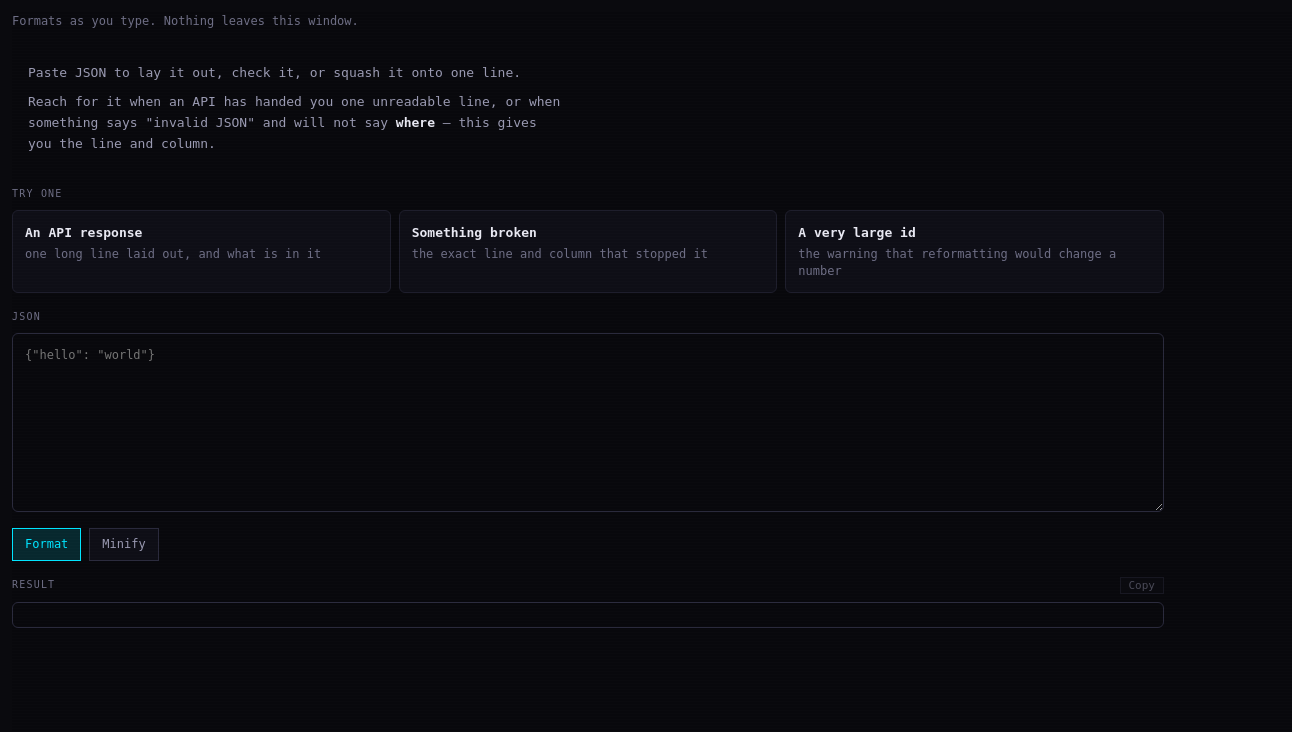
it: JsonTool › formats what is typed
The width and height of the screenshot is (1292, 732).
Click the text box labelled "JSON".
click(588, 423)  # box [12,333,1164,512]
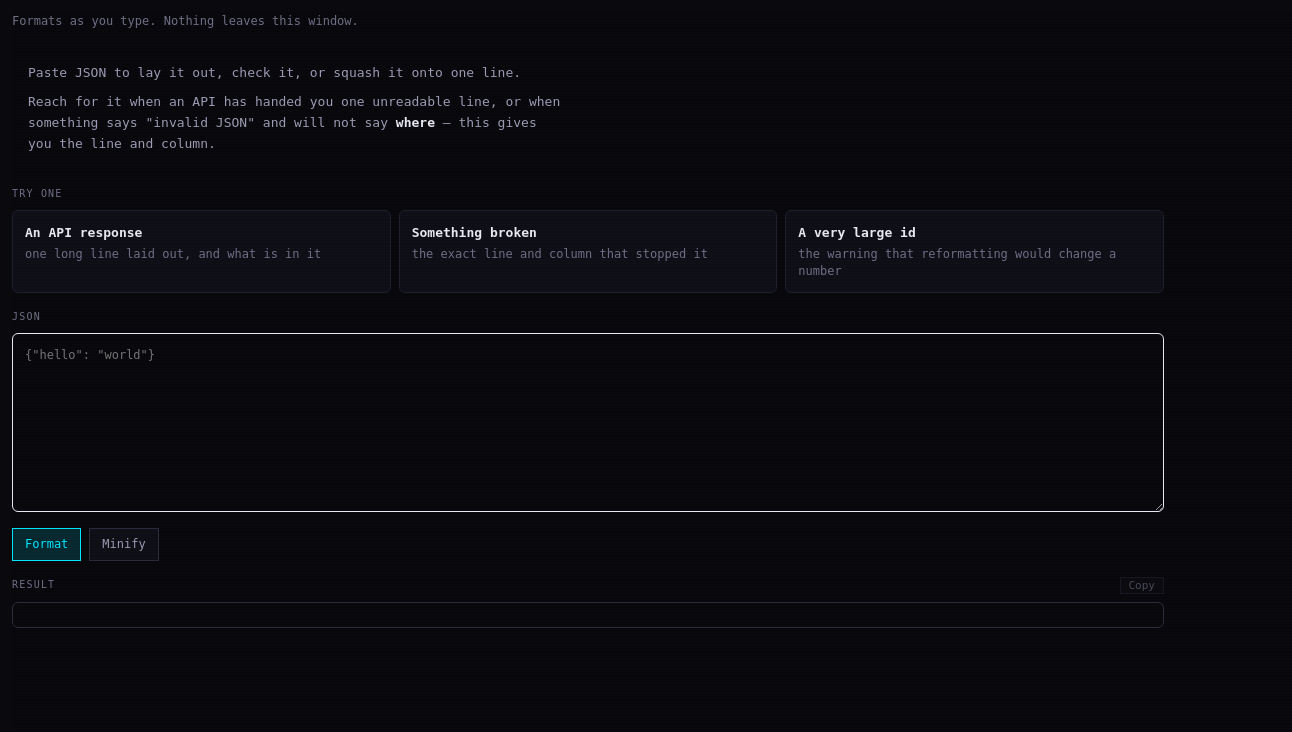
Type keys "{\"a\":1}"
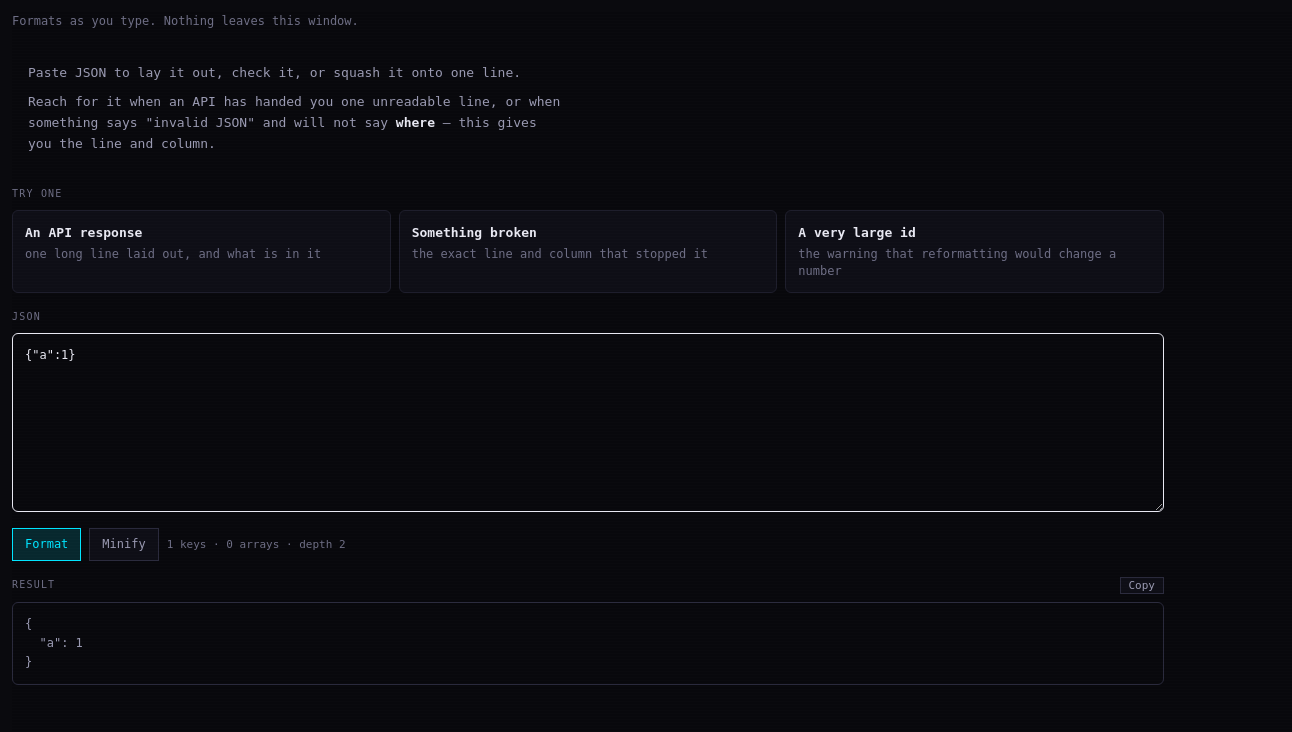
Expected: the text "{ \"a\": 1 }" is shown, [12,602,1164,685]
